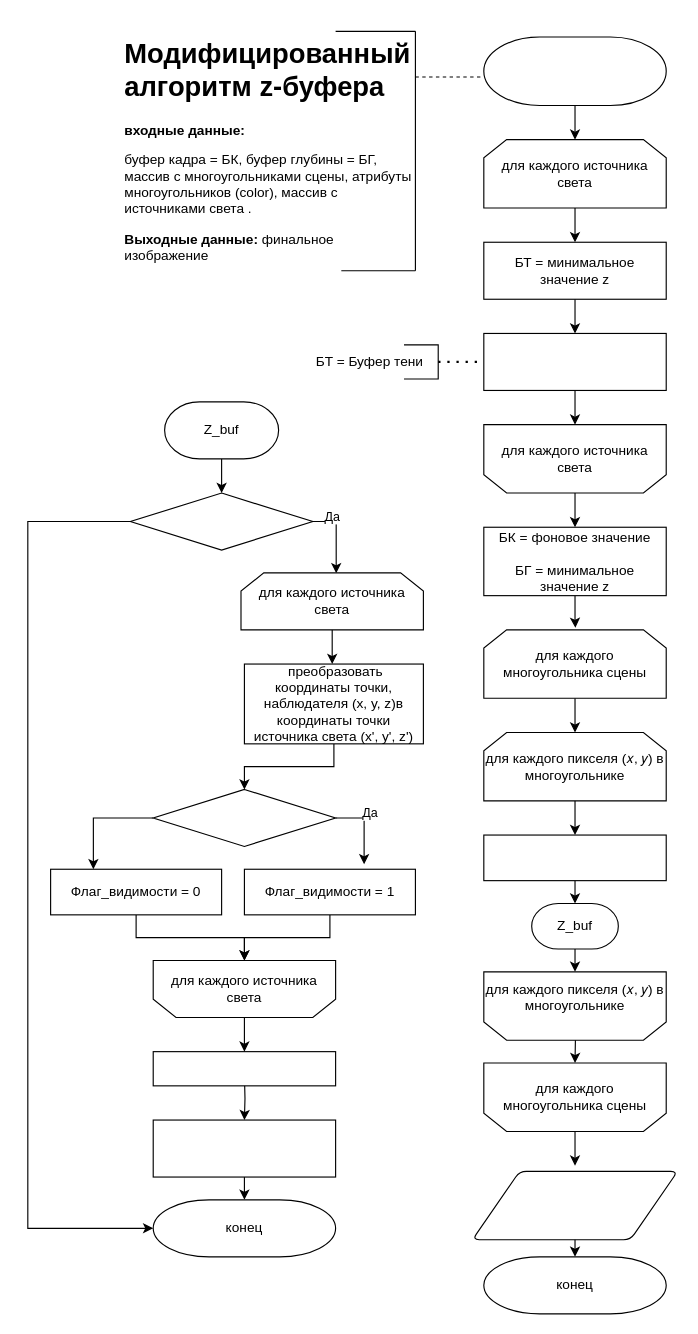
Image size: 698x1334. Some labels were removed from this diagram. The shapes that lost their labels are listed below. From the top down, each one's centre as x and y in pixels, then its label:
At (574,70): "Начало".
At (574,361): "Определить БТ для источника".
At (221,521): "𝑧(𝑥, 𝑦) > БГ (𝑥, 𝑦) ?".
At (244,817): "𝑧(𝑥', 𝑦') > БT (𝑥', 𝑦') ?".
At (574,857): "вычислить глубину пикселя 𝑧(𝑥, 𝑦)".
At (244,1068): "БГ (𝑥, 𝑦) = 𝑧(𝑥, 𝑦)".
At (244,1148): "color (𝑥, 𝑦) = color (𝑥, 𝑦) + Флаг_видимости".
At (574,1205): "финальное изображение".
